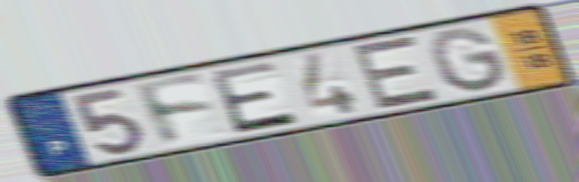4: (304, 49, 363, 118)
5: (67, 84, 150, 159)
E: (206, 58, 303, 137), (350, 33, 444, 113)
F: (130, 71, 219, 150)
G: (426, 26, 512, 95)
